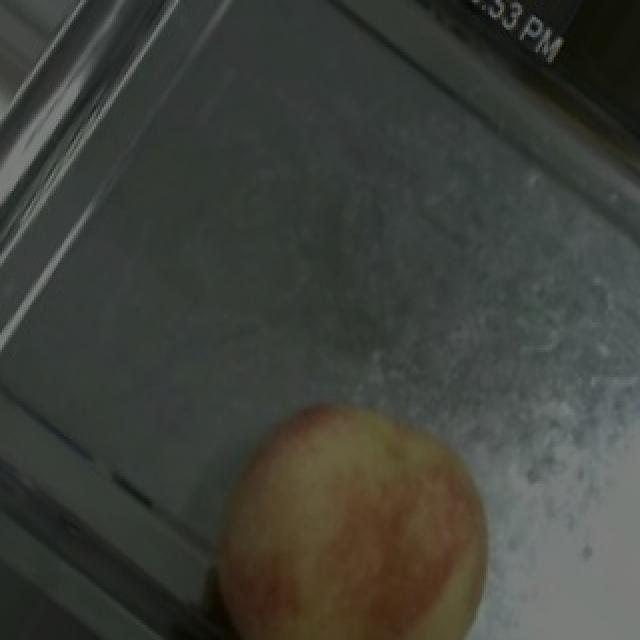Fruit: (172, 362, 516, 640)
